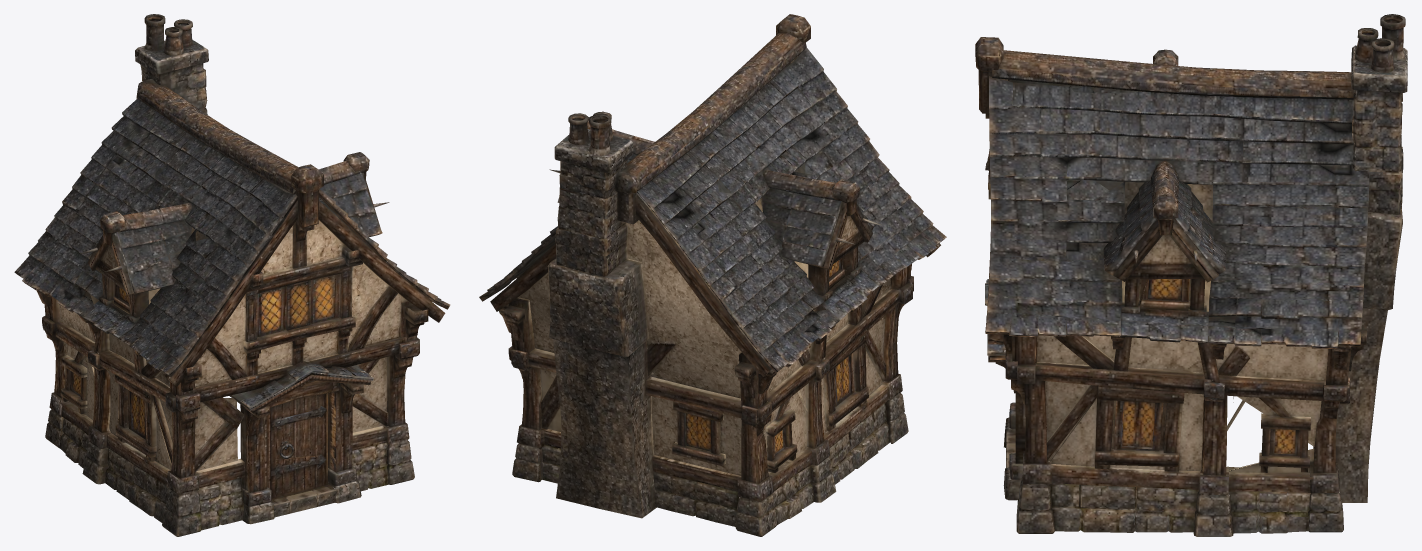
File: house_cottage_a.glb
The picture shows the model from 3 angles, left to right: view 1: azimuth 30°, elevation 25°; view 2: azimuth 150°, elevation 25°; view 3: azimuth 270°, elevation 25°; orthographic projection. The views are drawn at different scales.
Parts seen in each view (by area): view 1: tripo_node_af2393ca-347f-4934-8b6f-0aedbae8497b; view 2: tripo_node_af2393ca-347f-4934-8b6f-0aedbae8497b; view 3: tripo_node_af2393ca-347f-4934-8b6f-0aedbae8497b.
Boxes of the visible parts, x1=… form: tripo_node_af2393ca-347f-4934-8b6f-0aedbae8497b: x1=14, y1=14, x2=450, y2=536; tripo_node_af2393ca-347f-4934-8b6f-0aedbae8497b: x1=479, y1=14, x2=946, y2=536; tripo_node_af2393ca-347f-4934-8b6f-0aedbae8497b: x1=975, y1=14, x2=1407, y2=536.
Bounding box in the file's own units: 0.8042 × 0.9995 × 0.8647.
1 material, 1 textured.
